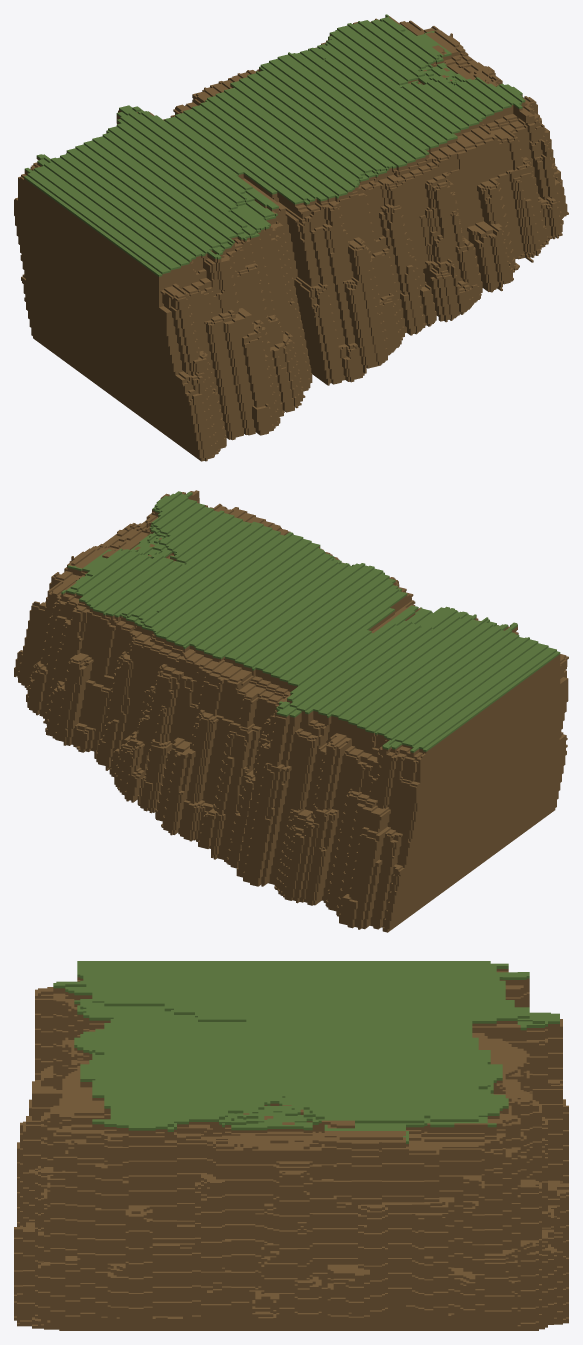
Rendered from forest1.4-183.obj.
The picture shows the model from 3 angles, top to bottom: view 1: azimuth 30°, elevation 25°; view 2: azimuth 150°, elevation 25°; view 3: azimuth 270°, elevation 25°; orthographic projection. The views are drawn at different scales.
Size of the model in its own units: 25.4 by 14.3 by 18.4.
Materials: 1 (1 with a texture image).
